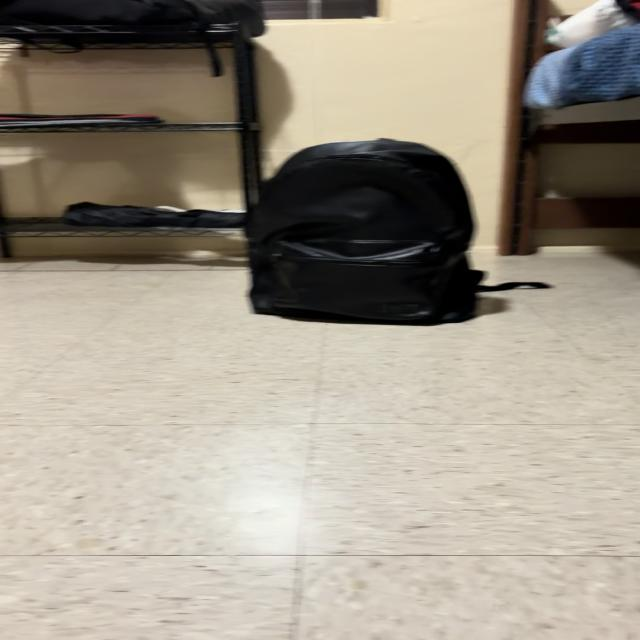backpack: (247, 139, 546, 323), (0, 0, 264, 37), (25, 33, 27, 37)
